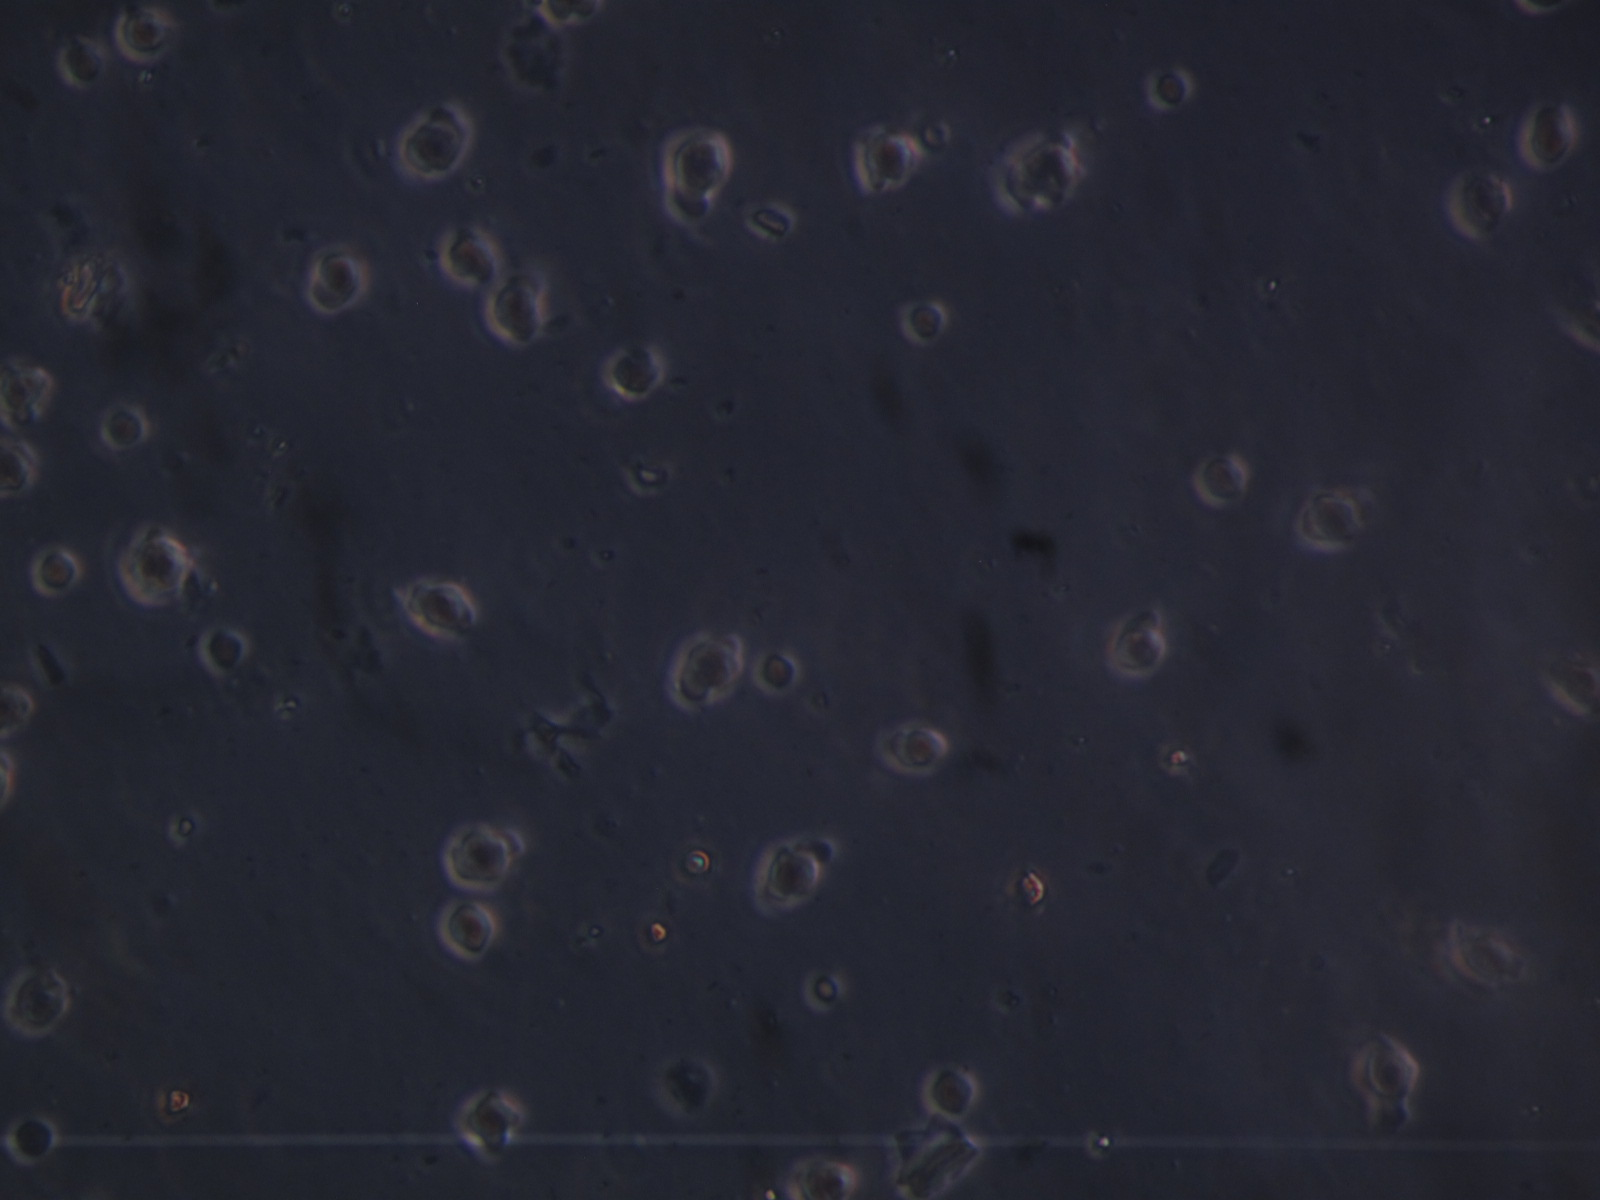hemo: (991, 132, 1078, 217), (1448, 163, 1516, 245), (118, 533, 191, 608), (670, 632, 742, 703), (443, 823, 511, 892), (653, 1054, 717, 1123), (8, 967, 71, 1037), (460, 1088, 523, 1156), (664, 130, 732, 192), (1518, 100, 1576, 171), (756, 841, 820, 905), (406, 579, 475, 638), (855, 127, 918, 192), (401, 117, 467, 178), (1351, 1039, 1419, 1098), (436, 899, 496, 964), (488, 280, 543, 350), (440, 226, 499, 287), (602, 343, 665, 400), (1303, 492, 1362, 550), (93, 398, 152, 454), (312, 253, 370, 309), (925, 1063, 979, 1121), (789, 1158, 863, 1200), (199, 621, 252, 679), (1193, 451, 1249, 505), (29, 546, 88, 596), (6, 1111, 58, 1166), (1111, 628, 1167, 677), (116, 9, 168, 61), (900, 722, 949, 776), (55, 38, 106, 89), (753, 645, 804, 696), (661, 180, 717, 224), (897, 296, 947, 344), (1, 439, 42, 498), (1146, 63, 1192, 108), (1369, 1093, 1414, 1136), (1, 684, 33, 740)
